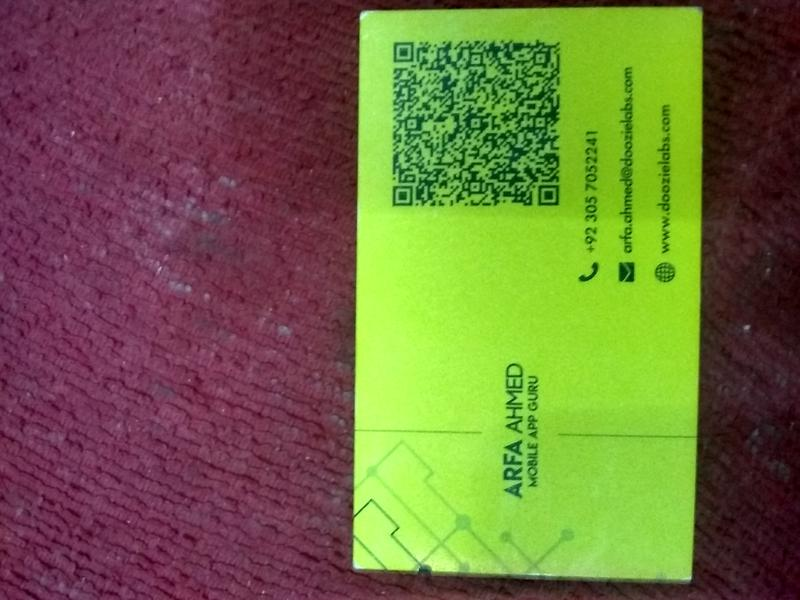front: (351, 5, 705, 580)
